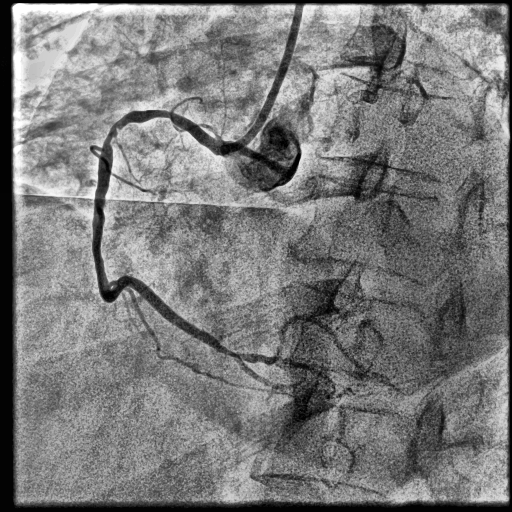pborca: (237, 302, 382, 365)
pda: (234, 358, 310, 398)
rca: (93, 109, 240, 359)
